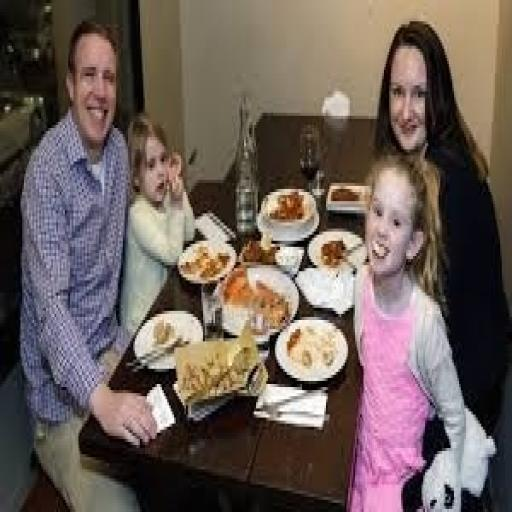eating: (17, 12, 505, 503)
